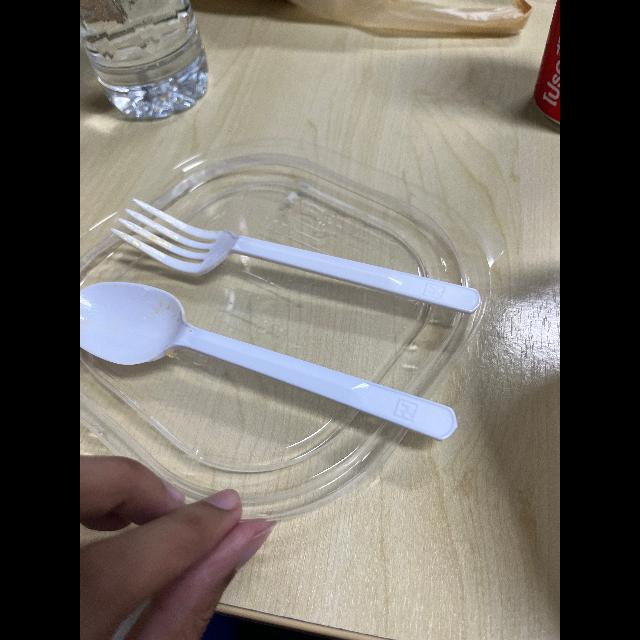plastic_cultery: (80, 273, 468, 453), (106, 190, 486, 316)
